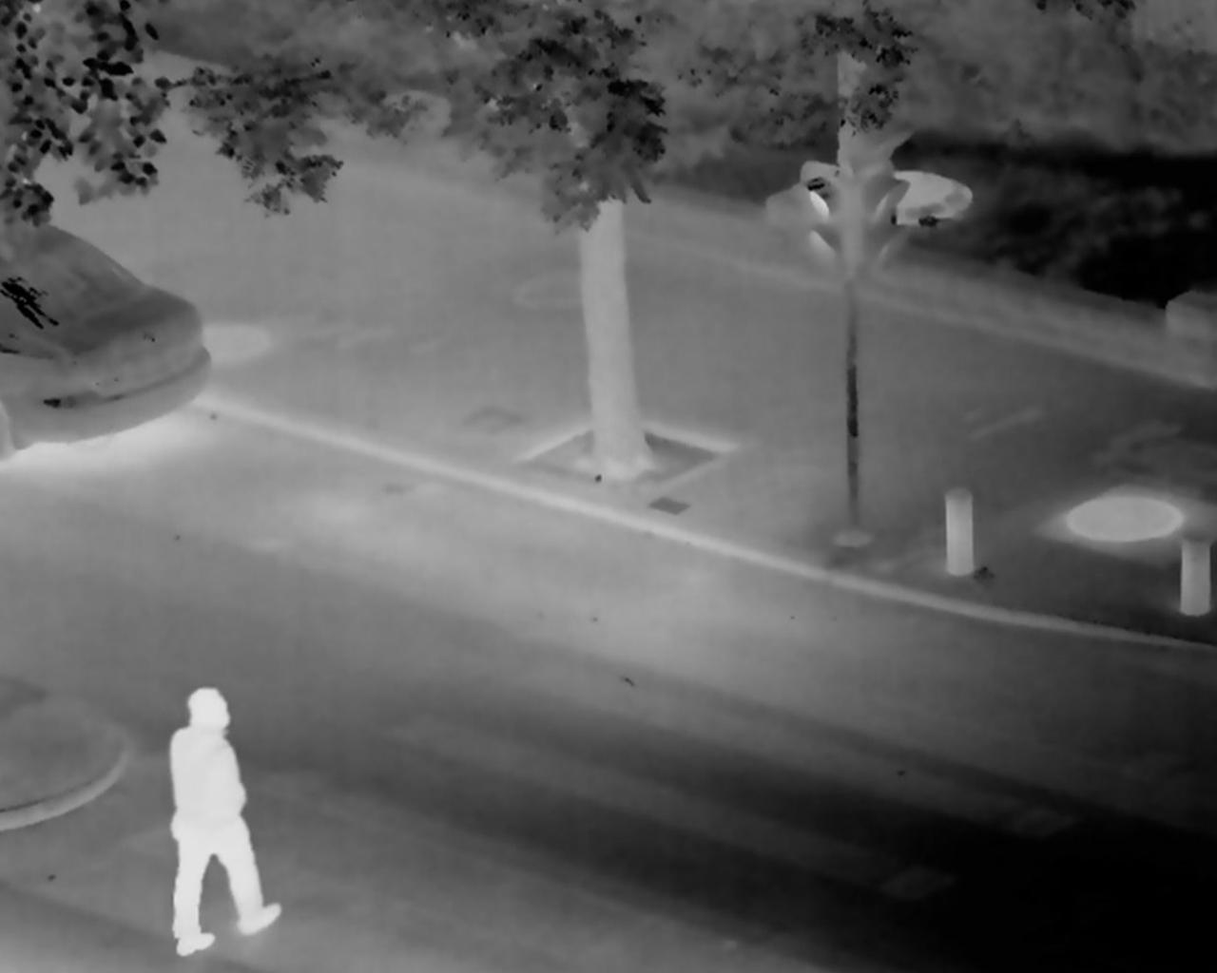person: (147, 675, 293, 948)
